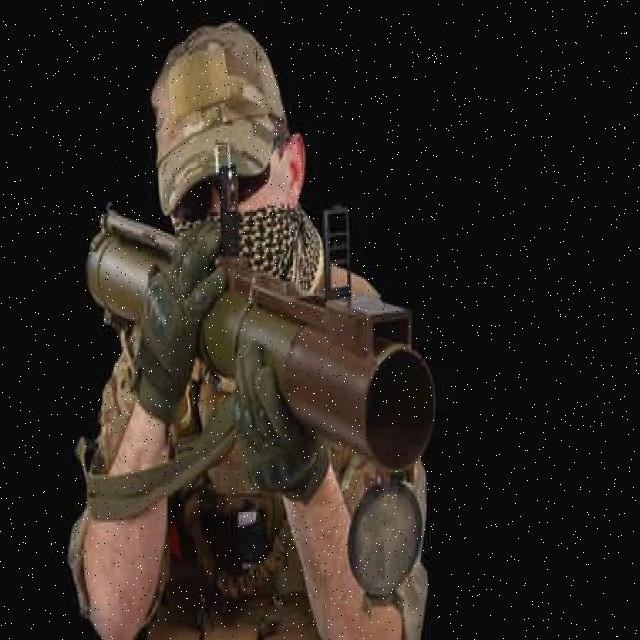bazooka: (81, 211, 440, 617)
